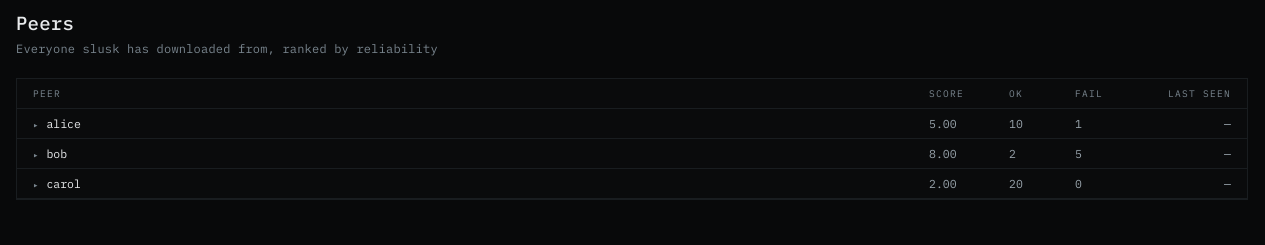
Test case: Peers expansion query state › shows a loading line while the expanded peer’s history is in flight
Click the text "alice": x=64, y=124 [46,116,81,131]
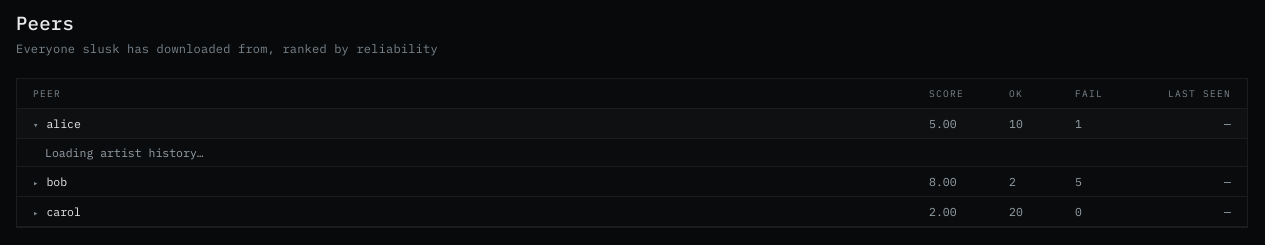
Expected: the text "Loading artist history…" is shown, [45,145,204,160]
